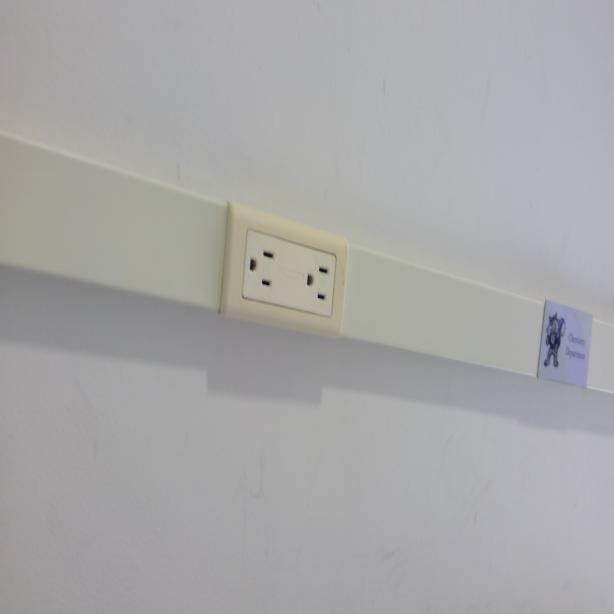typeb: (243, 238, 279, 298), (302, 254, 333, 312)
